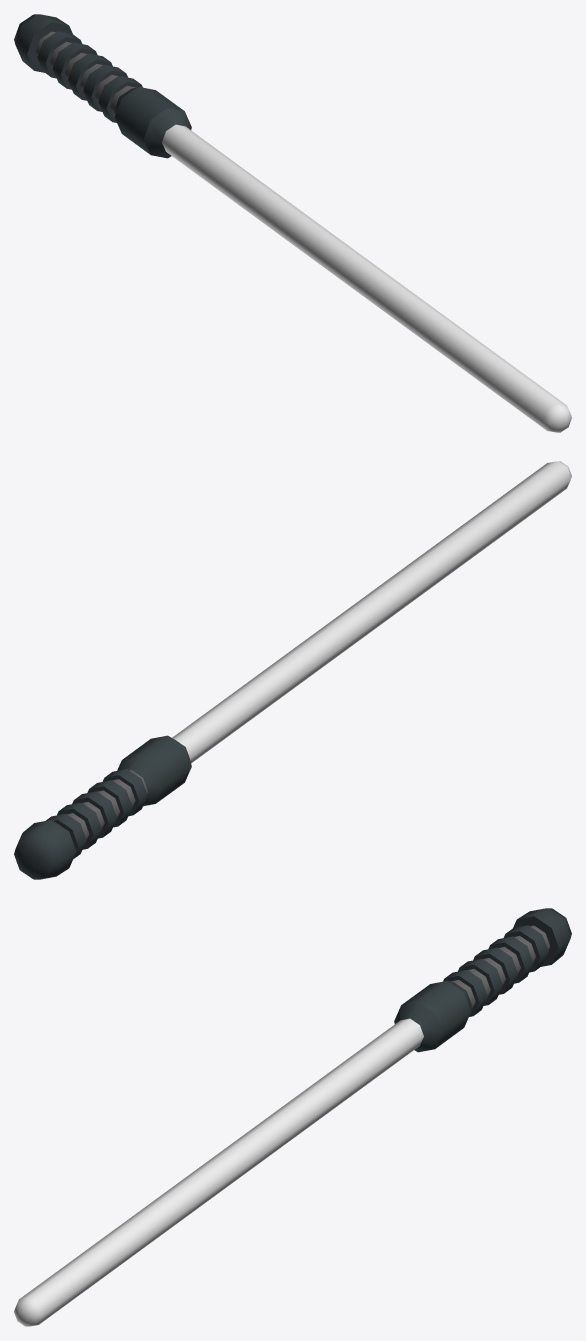
File: LaserSword_01.fbx
3 renders of one model, top to bottom at view 1: azimuth 30°, elevation 25°; view 2: azimuth 150°, elevation 25°; view 3: azimuth 330°, elevation 25°, orthographic.
Parts seen in each view (by area): view 1: LaserSword_01; view 2: LaserSword_01; view 3: LaserSword_01.
Part boxes in pixels (x1,y1,x2,y2): LaserSword_01: (14,14,571,432); LaserSword_01: (14,461,571,879); LaserSword_01: (14,908,571,1326).
Bounding box in the file's own units: 0.0565 × 0.0565 × 1.05.
